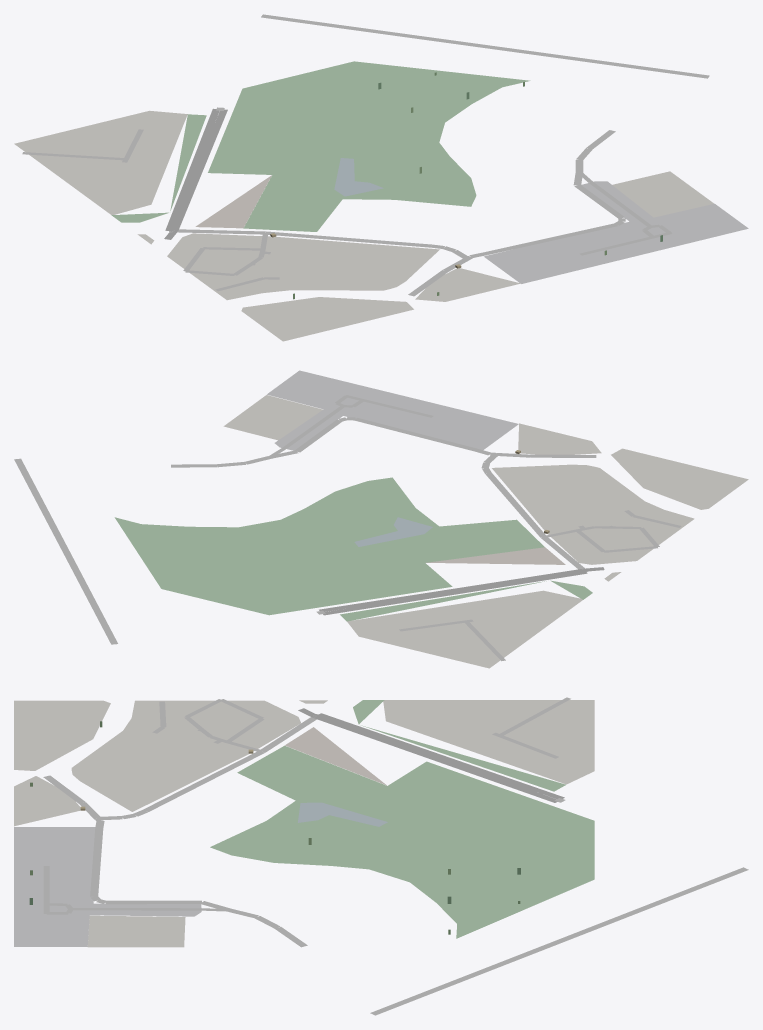
3 views of the same model, one above another, from view 1: azimuth 30°, elevation 25°; view 2: azimuth 150°, elevation 25°; view 3: azimuth 270°, elevation 25° (orthographic). The views are drawn at different scales.
Size of the model in its own units: 643 by 9.09 by 633.
